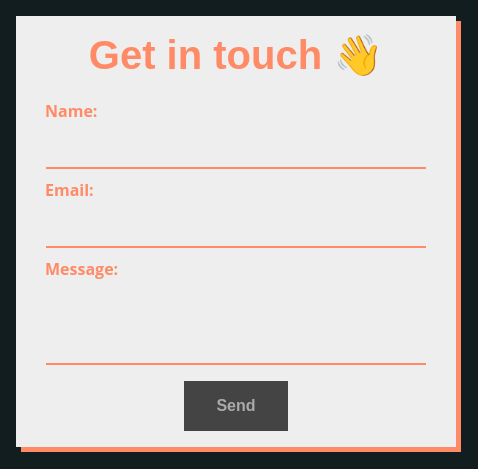
<ContactForm /> tests › shows error message on blur if name is shorter than 2 characters
The image size is (478, 469).
Type "a" into the field labelled "Name:". click: (236,149)
box: x1=46 y1=129 x2=426 y2=169
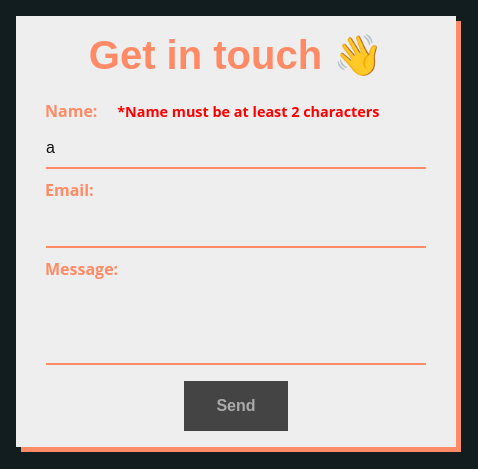
Expected: the text "*Name must be at least 2 characters" is shown, x1=113 y1=102 x2=380 y2=121
